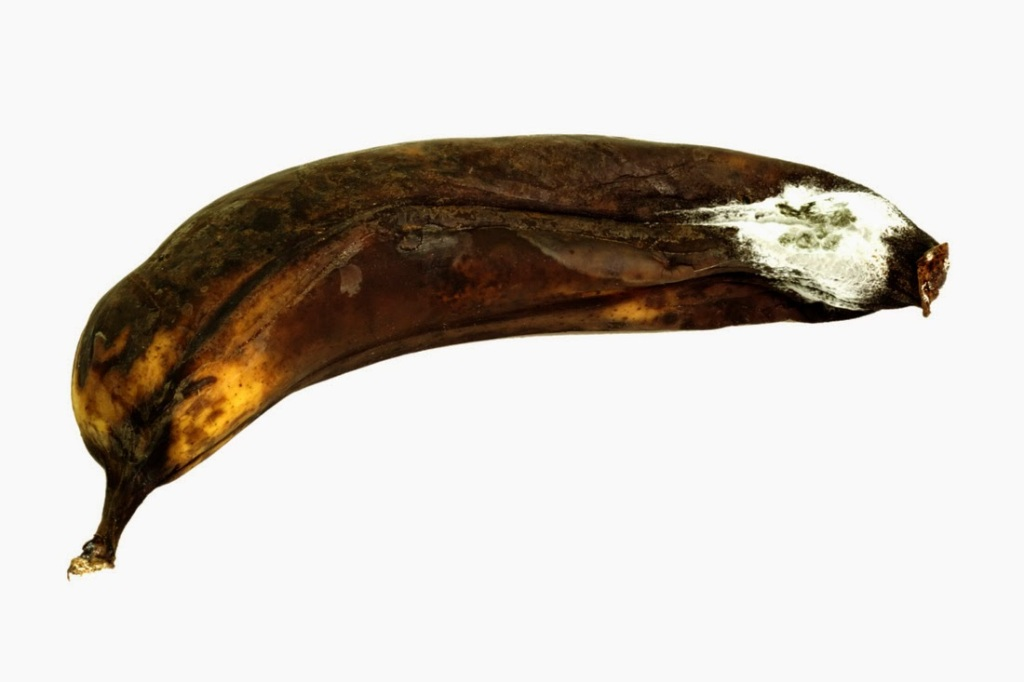looks_defective: (18, 56, 1010, 620)
